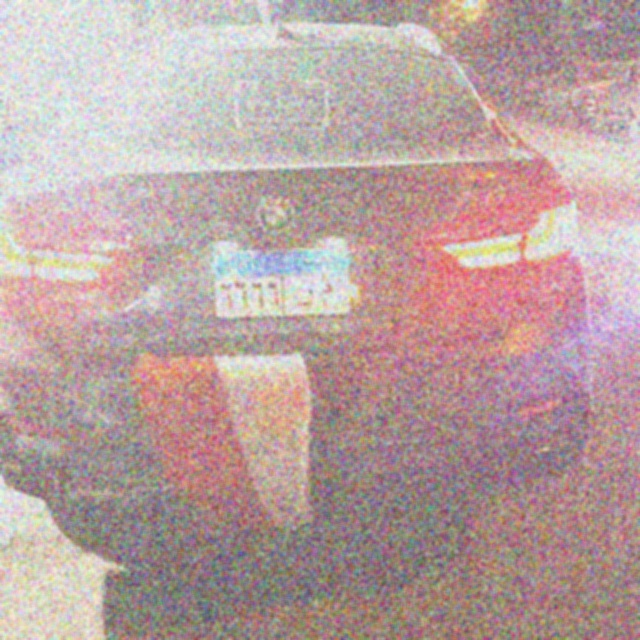License Plate: (209, 244, 355, 323)
